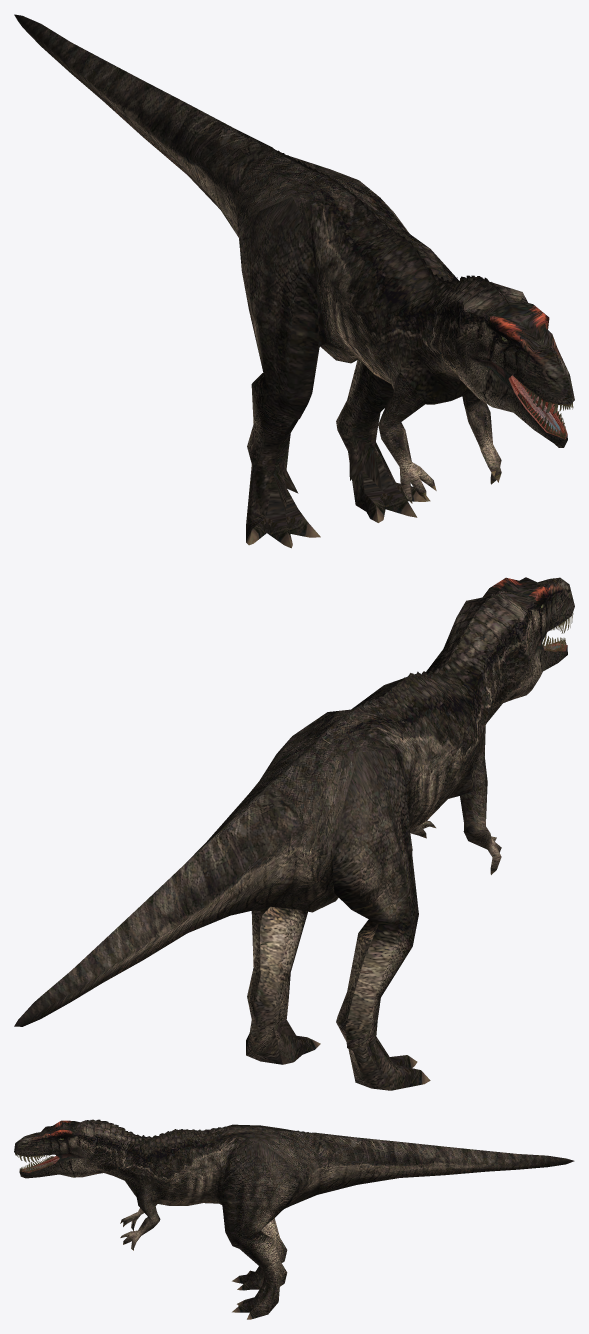
Rendered from carcar.obj.
3 views of the same model, one above another, from view 1: azimuth 30°, elevation 25°; view 2: azimuth 150°, elevation 25°; view 3: azimuth 270°, elevation 25° (orthographic). The views are drawn at different scales.
Visible parts, largest first — view 1: carcar; view 2: carcar; view 3: carcar.
Part boxes in pixels (left/top/right/bottom): carcar: left=14, top=14, right=574, bottom=548; carcar: left=14, top=577, right=574, bottom=1090; carcar: left=14, top=1119, right=574, bottom=1319.
Bounding box in the file's own units: 2.63 × 4.88 × 13.93.
Materials: 1 (1 with a texture image).
